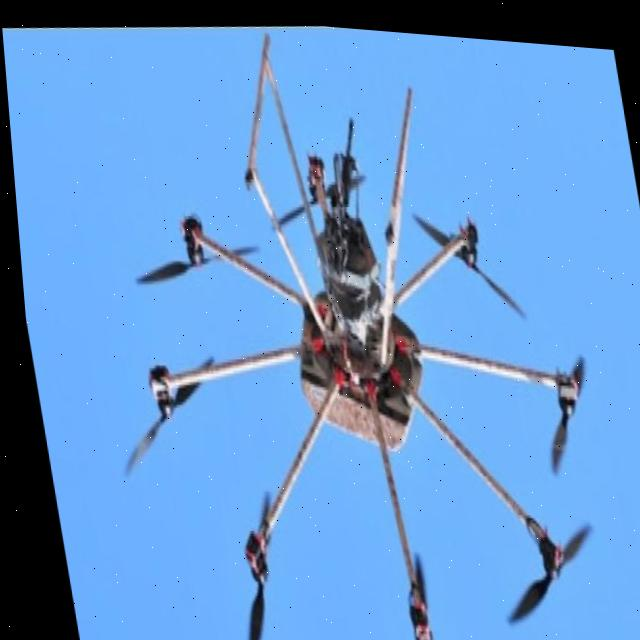drones: (30, 2, 624, 640)
